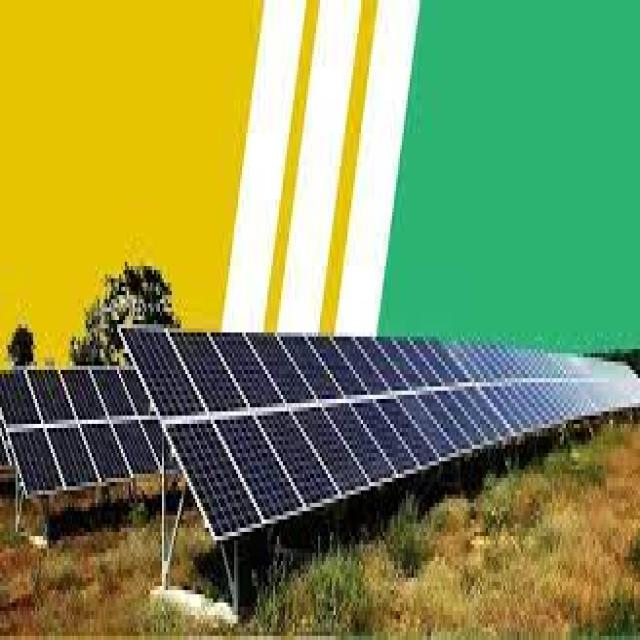clean-solar-panel: (123, 330, 640, 543)
